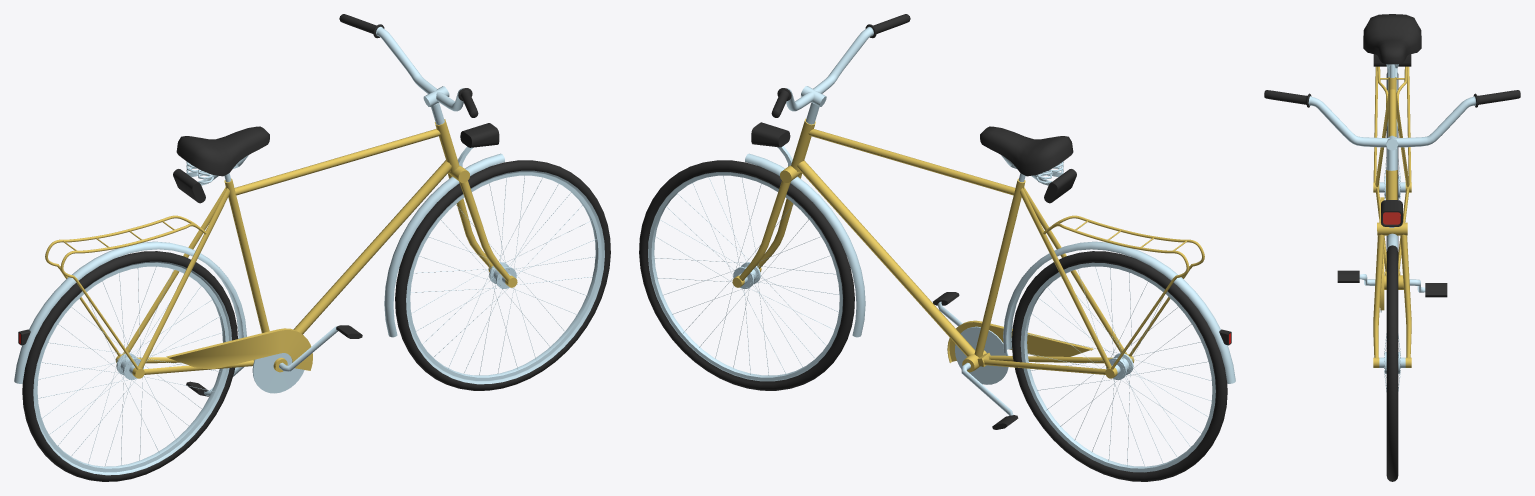
Rendered from Bicycle.fbx.
3 views of the same model, side by side, from view 1: azimuth 30°, elevation 25°; view 2: azimuth 150°, elevation 25°; view 3: azimuth 270°, elevation 25° (orthographic). The views are drawn at different scales.
Parts seen in each view (by area): view 1: Bicycle_Front_Rotating_Part, Bicycle_Frame_Static_Part, Bicycle_Wheel_Rear, Bicycle_Saddle; view 2: Bicycle_Front_Rotating_Part, Bicycle_Frame_Static_Part, Bicycle_Wheel_Rear, Bicycle_Saddle; view 3: Bicycle_Front_Rotating_Part, Bicycle_Frame_Static_Part, Bicycle_Saddle, Bicycle_Wheel_Rear.
Boxes of the visible parts, x1,y1,x2,y2 form: Bicycle_Front_Rotating_Part: [339, 14, 610, 390]; Bicycle_Frame_Static_Part: [14, 119, 459, 396]; Bicycle_Wheel_Rear: [22, 251, 237, 481]; Bicycle_Saddle: [173, 126, 269, 203]; Bicycle_Front_Rotating_Part: [639, 14, 910, 390]; Bicycle_Frame_Static_Part: [791, 118, 1235, 429]; Bicycle_Wheel_Rear: [1011, 251, 1227, 481]; Bicycle_Saddle: [980, 126, 1076, 203]; Bicycle_Front_Rotating_Part: [1264, 90, 1520, 481]; Bicycle_Frame_Static_Part: [1337, 66, 1447, 312]; Bicycle_Saddle: [1363, 14, 1421, 77]; Bicycle_Wheel_Rear: [1373, 73, 1411, 248].
Bounding box in the file's own units: 242 × 137 × 93.73.
